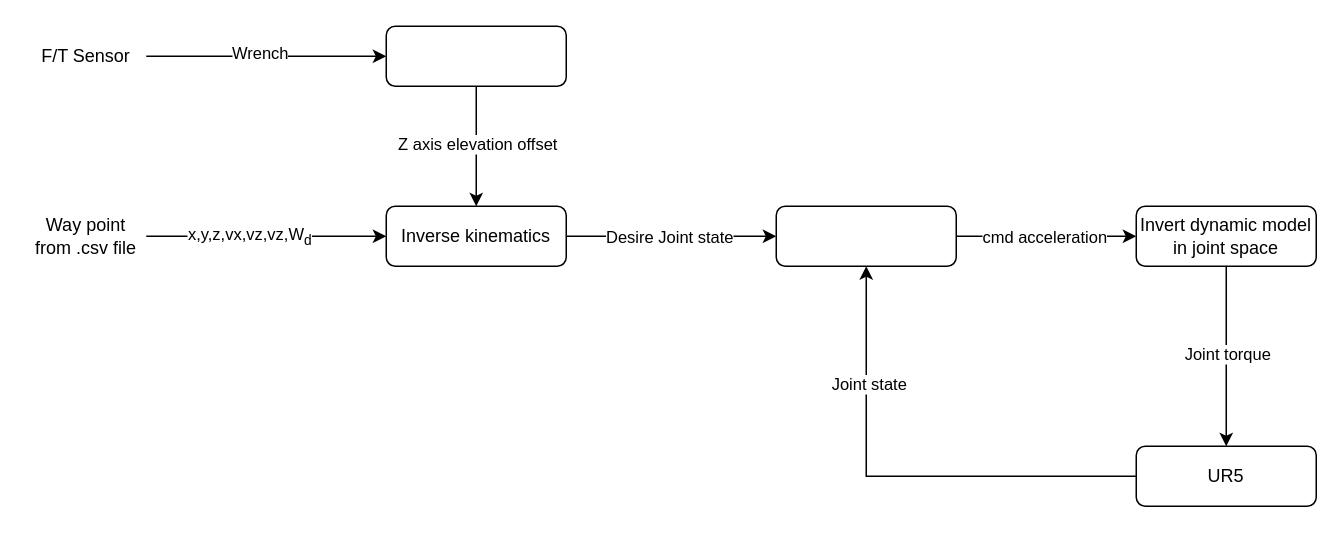
This 1343x533 diagram has some shape labels left out. The centre of each missing label's shape, as x and y in pixels:
"PD Motion controller" belongs at (x=865, y=235).
"PI force elevation controller" belongs at (x=475, y=55).
